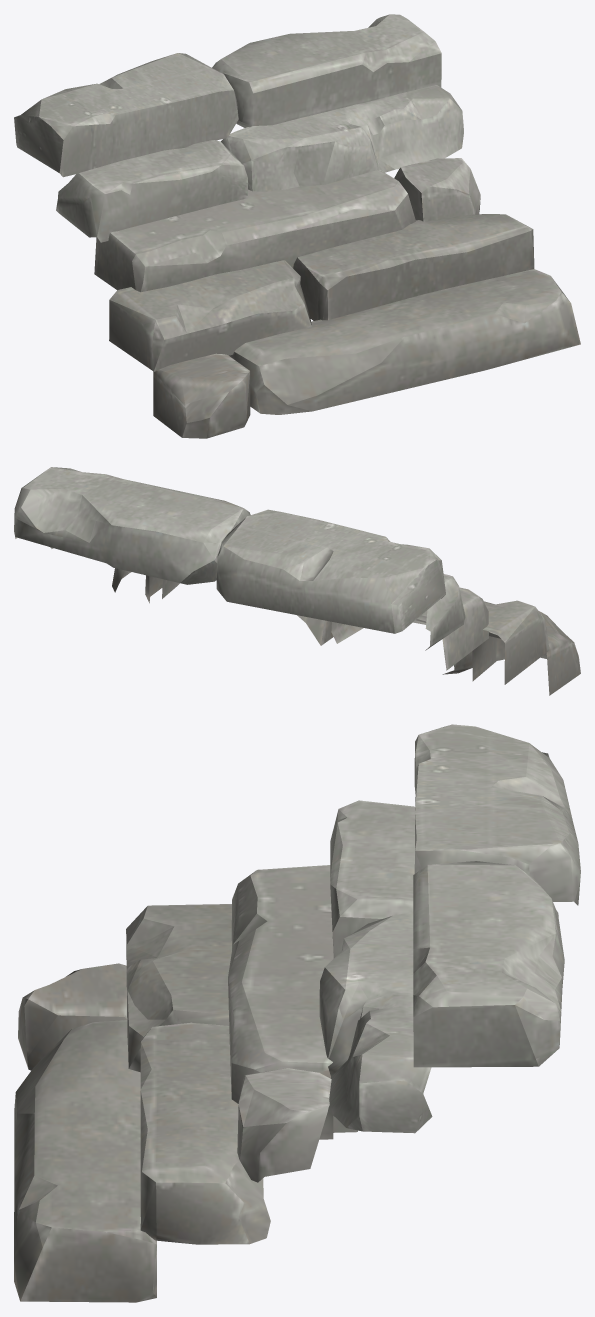
Rendered from ramp_wall_cntr_000b.fbx.
3 renders of one model, top to bottom at view 1: azimuth 30°, elevation 25°; view 2: azimuth 150°, elevation 25°; view 3: azimuth 270°, elevation 25°, orthographic. The views are drawn at different scales.
Parts seen in each view (by area): view 1: ramp_wall_cntr_000b; view 2: ramp_wall_cntr_000b; view 3: ramp_wall_cntr_000b.
Boxes of the visible parts, left/top/right/bottom form: ramp_wall_cntr_000b: left=14, top=14, right=580, bottom=438; ramp_wall_cntr_000b: left=14, top=467, right=580, bottom=695; ramp_wall_cntr_000b: left=14, top=724, right=580, bottom=1302.
Bounding box in the file's own units: 26953 × 14052 × 23136.
